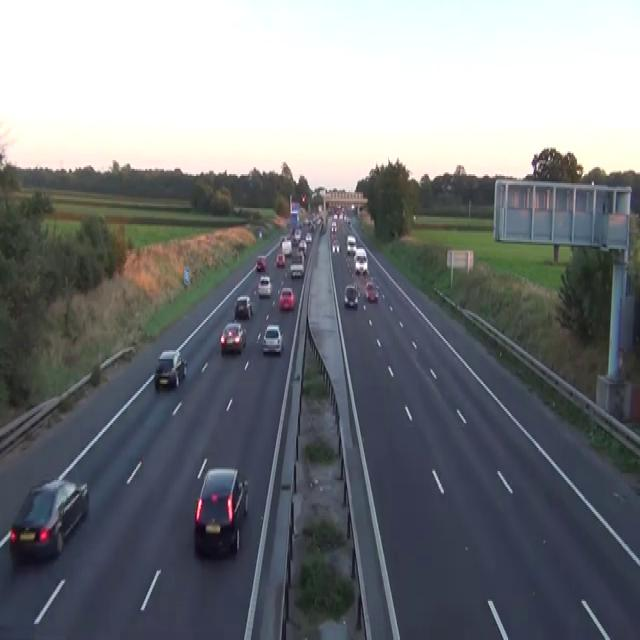Car: (9, 476, 89, 562), (194, 466, 248, 556), (154, 349, 187, 391), (220, 322, 246, 352), (262, 324, 282, 354), (233, 295, 253, 320), (343, 282, 358, 308), (278, 286, 294, 310), (354, 247, 367, 274), (364, 279, 379, 301), (257, 275, 271, 297), (281, 238, 292, 256), (346, 235, 356, 254), (256, 254, 266, 272), (298, 238, 306, 256), (275, 252, 285, 266), (354, 247, 366, 258), (331, 238, 340, 252), (294, 228, 301, 242), (305, 231, 312, 244), (331, 220, 337, 233), (320, 222, 326, 235), (346, 217, 351, 226), (258, 228, 262, 238), (301, 194, 306, 202), (351, 202, 354, 210)
